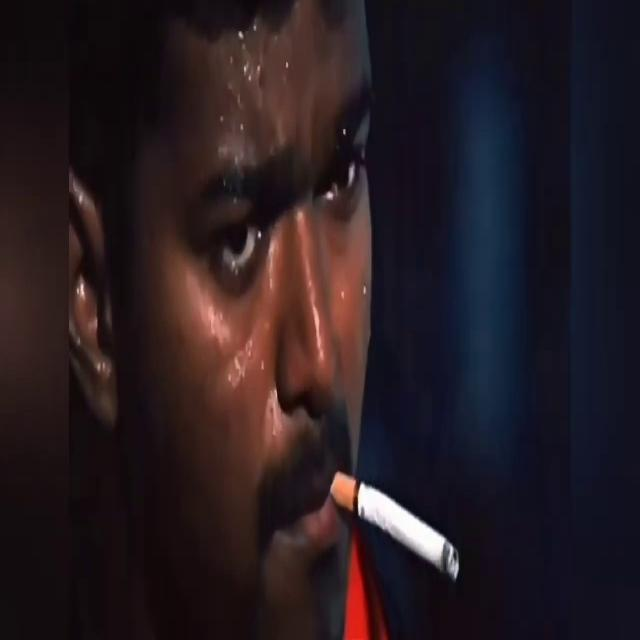smoking: (224, 322, 468, 601)
